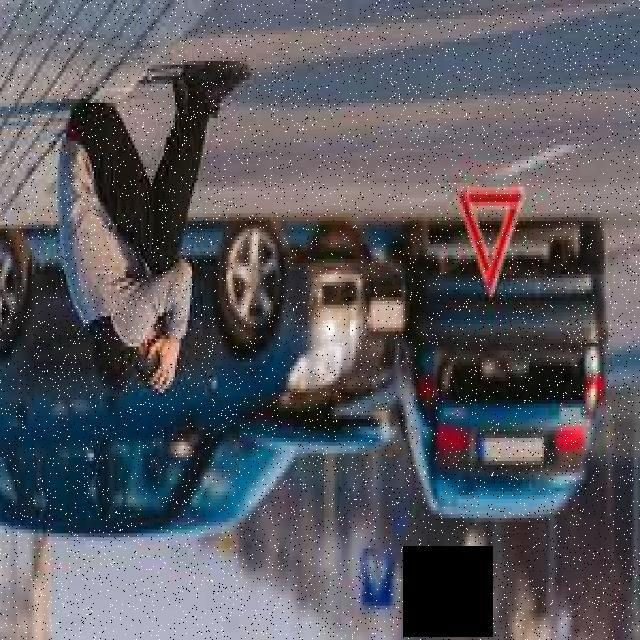moderate: (0, 216, 612, 547)
